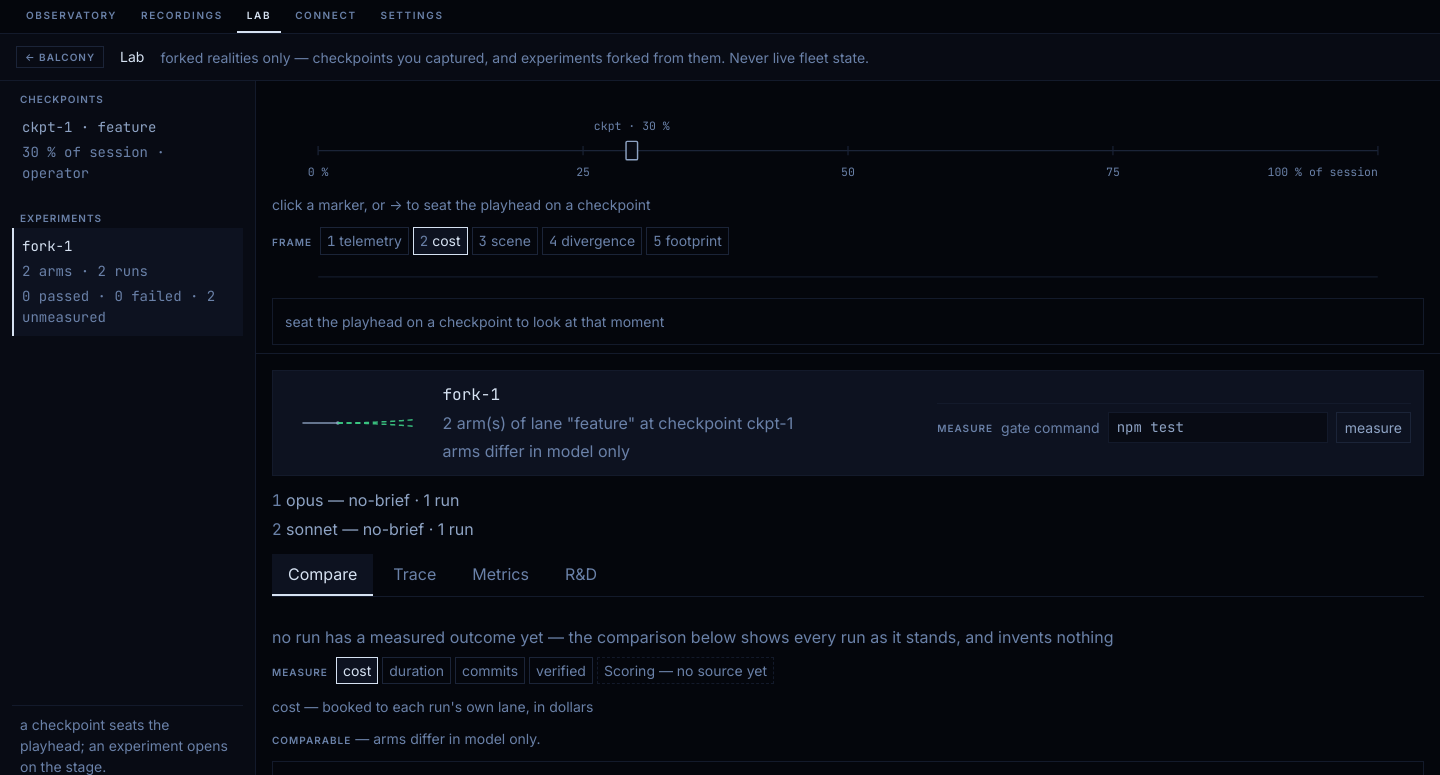
LabPage — the lab re-reads its own record when it has changed it (prd-55 ruling 7) › every experiment panel carries a measure control, and a successful measurement re-reads the workspace — the verdicts reach Compare and Metrics without a page re
Expected: the element with test id "measure-control-fork-1" is shown, [937,403,1411,443]
Click the button with test id "measure-fork-1" at (1373,428), box [1336,412,1411,443]
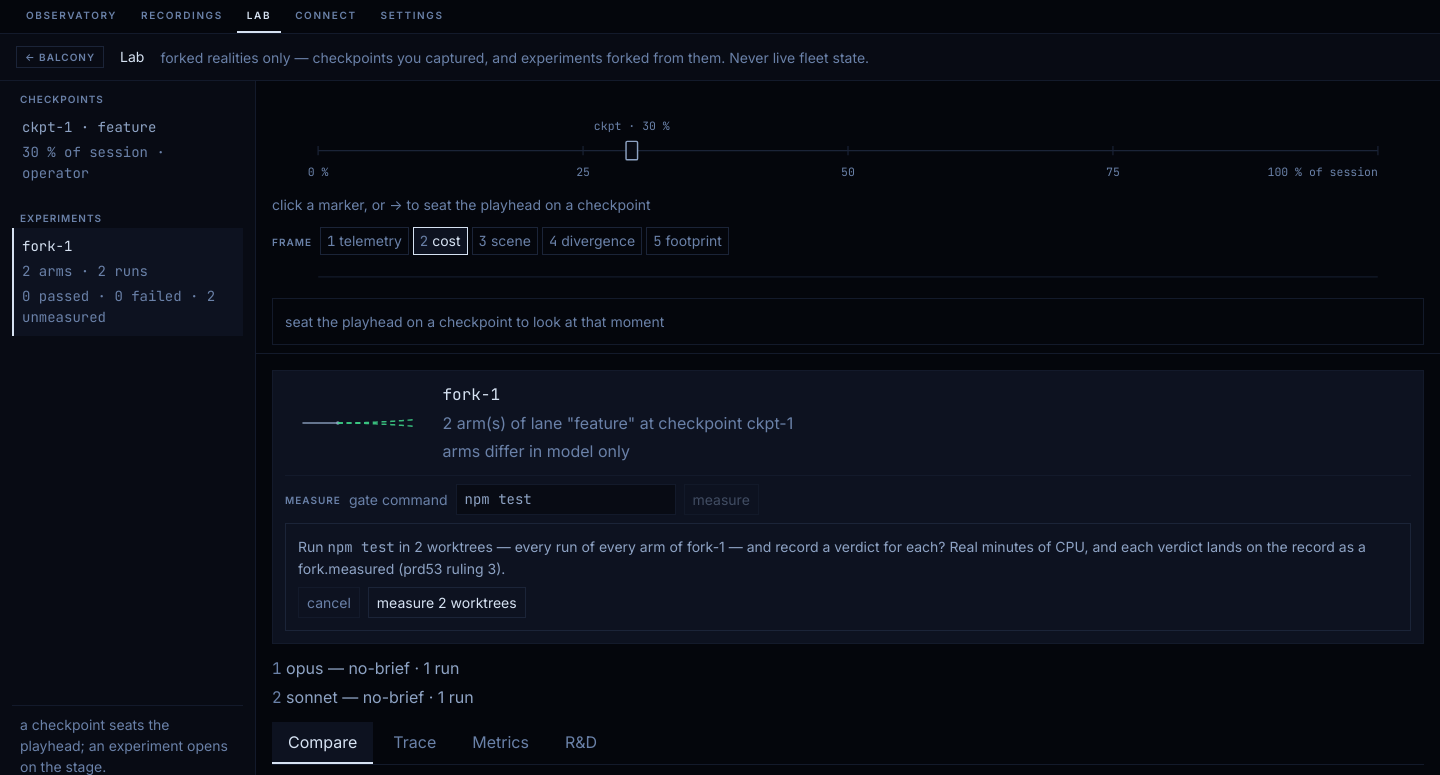
Expected: the element with test id "measure-confirm-dialog-fork-1" is shown, [285,523,1411,631]
Click the button with test id "measure-confirm-fork-1" at (447,603), box [368,587,526,618]
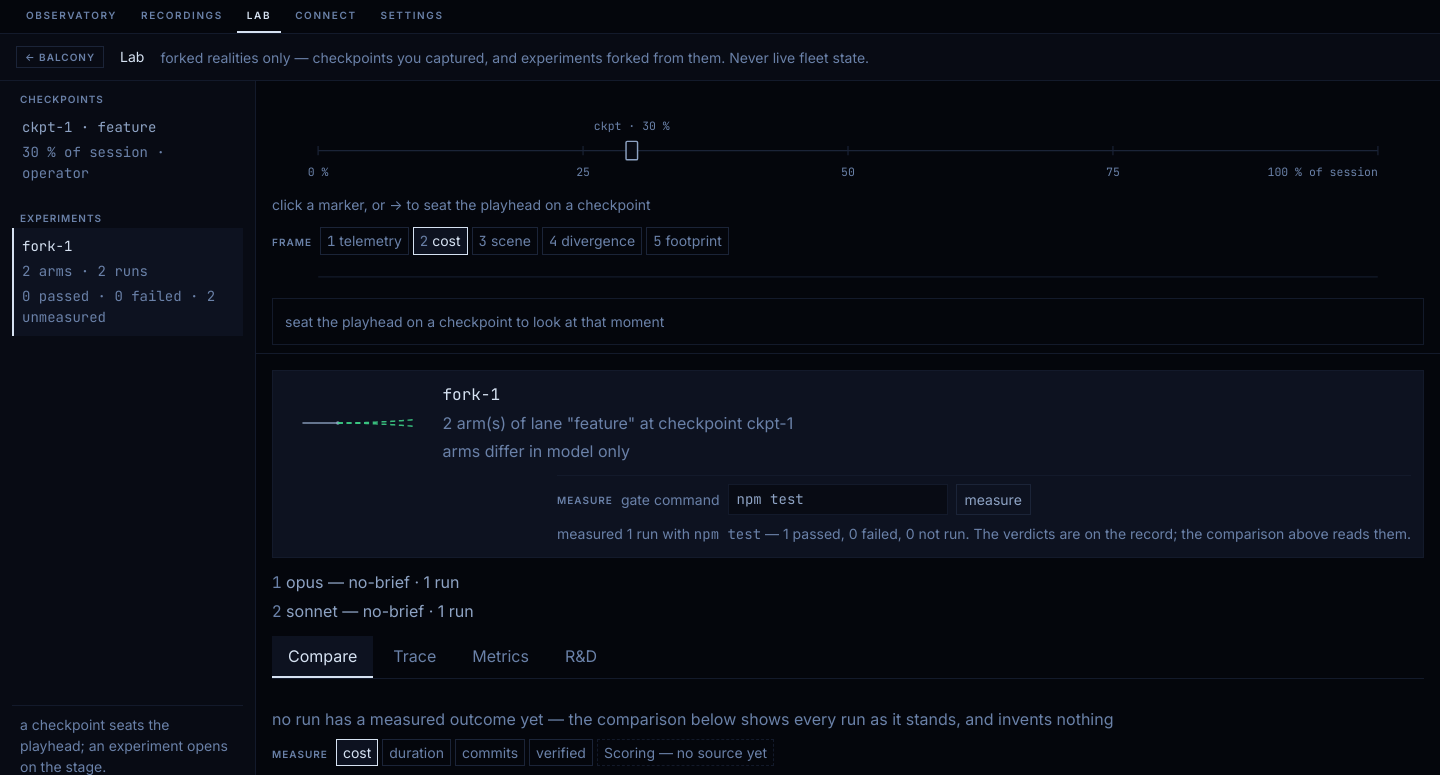
Expected: the element with test id "measure-result-fork-1" is shown, [557,523,1411,545]
